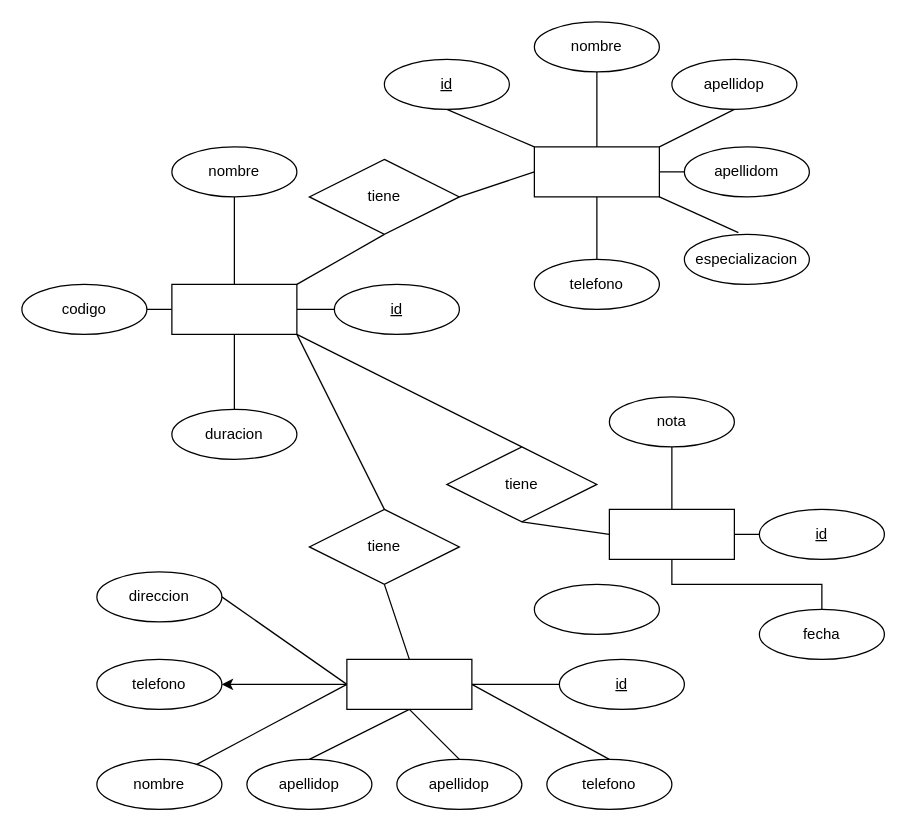
Some shapes in this 906 by 831 pixel diagram are drawn without their labels. Each missing label, with the centre of its shape:
alumnos: [409,683]
cursos: [234,308]
fecha_nacimiento: [596,608]
inscripciones: [671,533]
profesores: [596,171]
